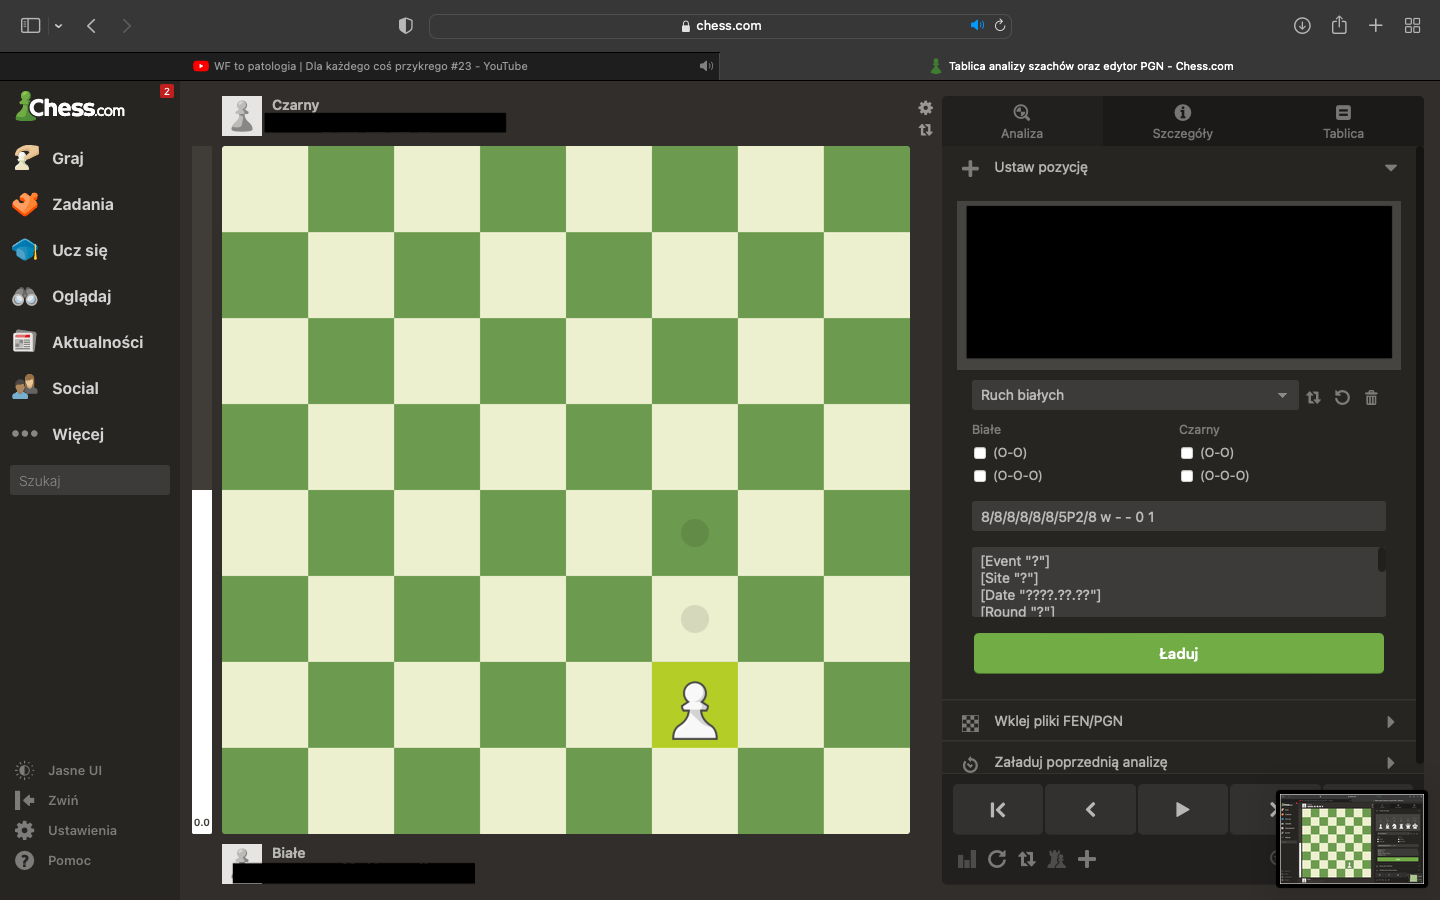white_pawn: (672, 681, 719, 741)
